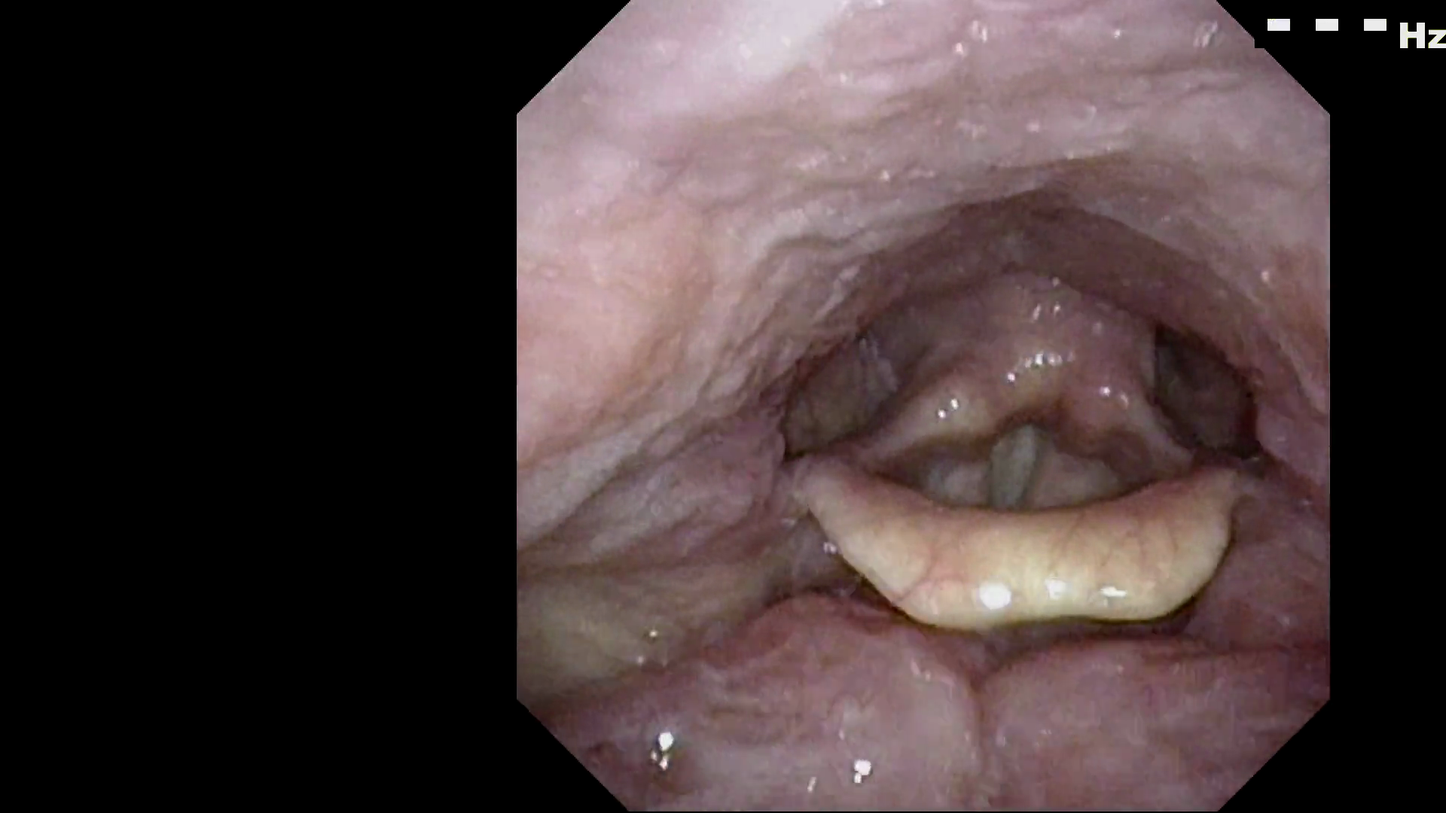epiglottis: (793, 425, 1235, 626)
trachea: (970, 409, 1054, 515)
